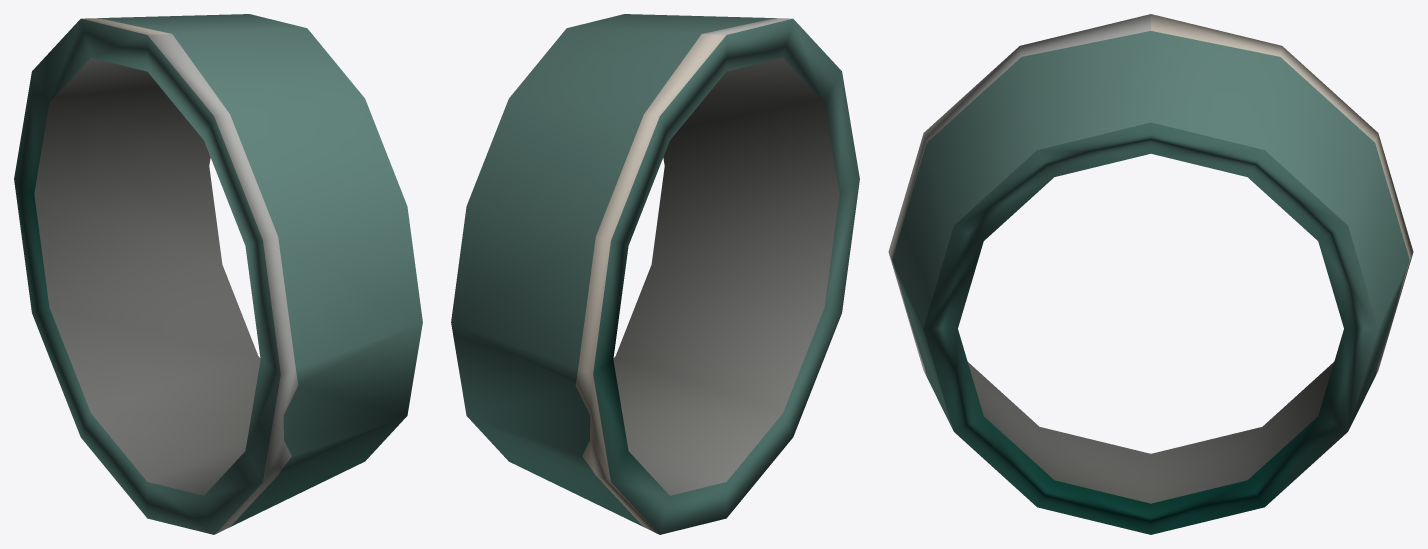
File: SubTubeEntrance.glb
3 views of the same model, side by side, from view 1: azimuth 30°, elevation 25°; view 2: azimuth 150°, elevation 25°; view 3: azimuth 270°, elevation 25° (orthographic).
Visible parts, largest first — view 1: SubTubeEntrance; view 2: SubTubeEntrance; view 3: SubTubeEntrance.
Boxes of the visible parts, x1,y1,x2,y2 form: SubTubeEntrance: [14, 14, 422, 534]; SubTubeEntrance: [451, 14, 859, 534]; SubTubeEntrance: [888, 14, 1413, 534].
Size of the model in its own units: 0.9047 by 2.61 by 2.61.
